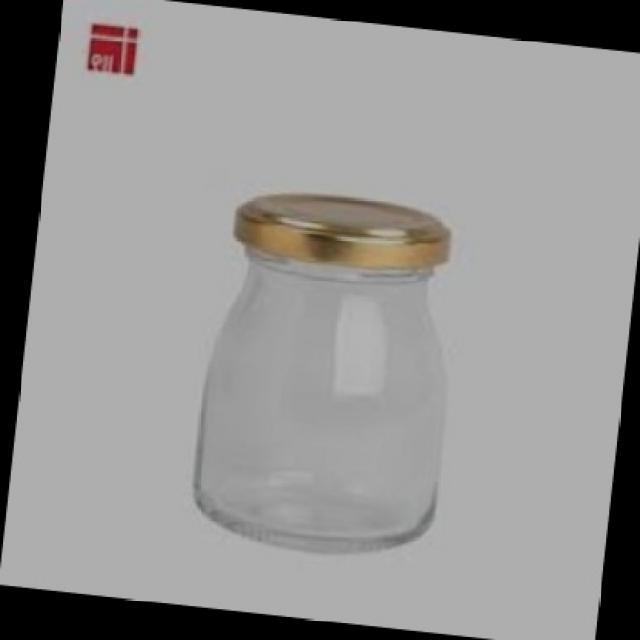Glass: (194, 192, 452, 556)
